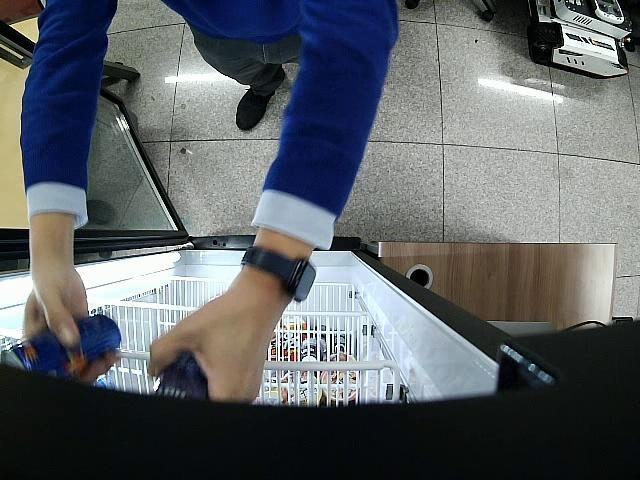16_hot6: (0, 314, 122, 382), (154, 351, 209, 401)
